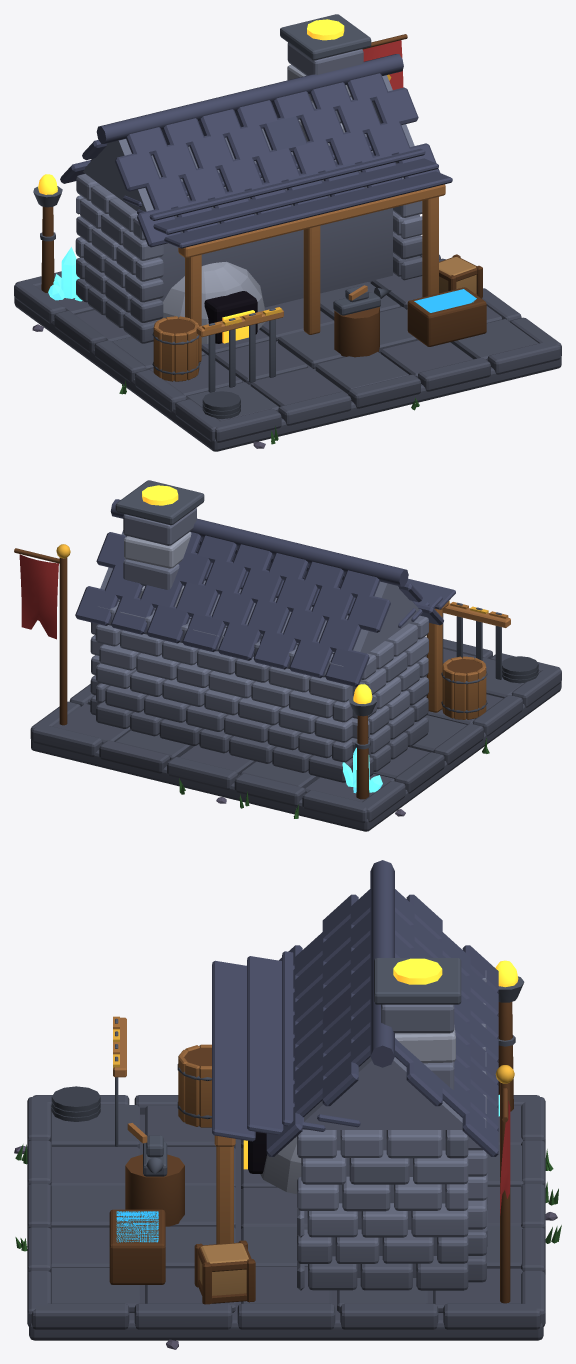
Rendered from forge.glb.
The picture shows the model from 3 angles, top to bottom: view 1: azimuth 30°, elevation 25°; view 2: azimuth 150°, elevation 25°; view 3: azimuth 270°, elevation 25°; orthographic projection. The views are drawn at different scales.
Parts seen in each view (by area): view 1: t0_stone_dark, t0_roof_slate, t0_wood, t0_wood_dark, t0_iron, t0_stone, t0_dark, t2_wood_dark, t0_flame, t3_crystal, t1_iron, t1_wood_light (+3 smaller); view 2: t0_stone_dark, t0_roof_slate, t0_wood, t0_iron, t2_wood_dark, t2_cloth_red, t0_stone, t1_iron, t0_flame, t3_crystal, t2_iron; view 3: t0_stone_dark, t0_roof_slate, t0_wood_dark, t0_wood, t0_iron, t0_stone, t2_wood_dark, t1_wood_dark, t1_wood_light, t1_iron, t0_water, t0_flame (+3 smaller).
Boxes of the visible parts, x1,y1,x2,y2 form: t0_stone_dark: (14,42,561,451); t0_roof_slate: (60,54,452,248); t0_wood: (153,184,445,381); t0_wood_dark: (158,287,486,357); t0_iron: (152,14,391,392); t0_stone: (159,64,351,343); t0_dark: (204,291,257,343); t2_wood_dark: (41,34,407,292); t0_flame: (222,19,344,343); t3_crystal: (48,247,82,301); t1_iron: (202,391,240,418); t1_wood_light: (439,257,476,293); t0_stone_dark: (30,508,561,831); t0_roof_slate: (75,499,455,686); t0_wood: (426,601,510,719); t0_iron: (115,480,501,713); t2_wood_dark: (14,548,369,799); t2_cloth_red: (19,554,58,639); t0_stone: (124,532,191,606); t1_iron: (502,656,538,683); t0_flame: (142,485,178,505); t3_crystal: (342,747,382,793); t2_iron: (348,695,376,749); t0_stone_dark: (27,970,545,1340); t0_roof_slate: (212,860,498,1156); t0_wood_dark: (109,1048,211,1284); t0_wood: (113,1017,235,1244); t0_iron: (115,958,461,1176); t0_stone: (260,1025,455,1194); t2_wood_dark: (498,1002,513,1303); t1_wood_dark: (194,1240,255,1304); t1_wood_light: (199,1243,248,1295); t1_iron: (51,1086,100,1121); t0_water: (116,1211,158,1242); t0_flame: (243,958,442,1169).
Bounding box in the file's own units: 3.27 × 2.04 × 3.13.
